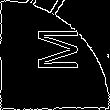M_W: (30, 32, 80, 78)
